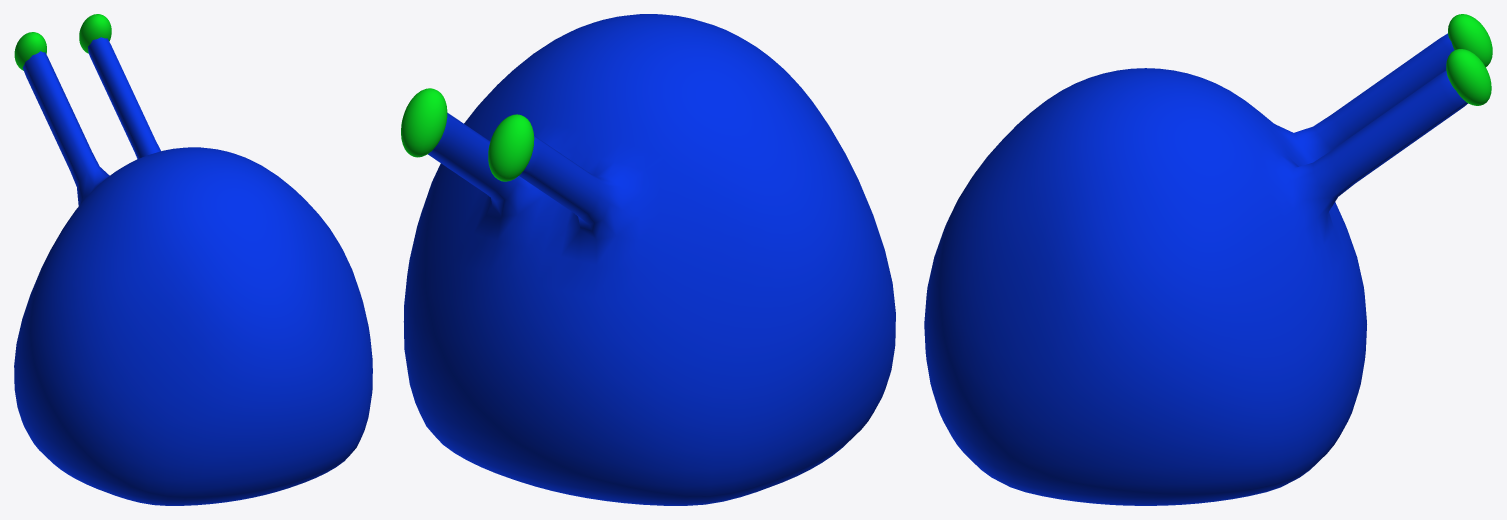
Rendered from Slime1.fbx.
3 renders of one model, left to right at view 1: azimuth 30°, elevation 25°; view 2: azimuth 150°, elevation 25°; view 3: azimuth 270°, elevation 25°, orthographic. The views are drawn at different scales.
Visible parts, largest first — view 1: Roundcube.003, Roundcube.008, Roundcube.004; view 2: Roundcube.003, Roundcube.008, Roundcube.004; view 3: Roundcube.003, Roundcube.008, Roundcube.004.
Boxes of the visible parts, <box> form: Roundcube.003: <box>14,37,372,505</box>; Roundcube.008: <box>79,14,111,53</box>; Roundcube.004: <box>14,32,46,70</box>; Roundcube.003: <box>403,14,895,505</box>; Roundcube.008: <box>401,88,447,157</box>; Roundcube.004: <box>488,114,534,181</box>; Roundcube.003: <box>924,33,1467,505</box>; Roundcube.008: <box>1446,49,1491,105</box>; Roundcube.004: <box>1448,14,1492,66</box>.
Size of the model in its own units: 195 by 201 by 251.
